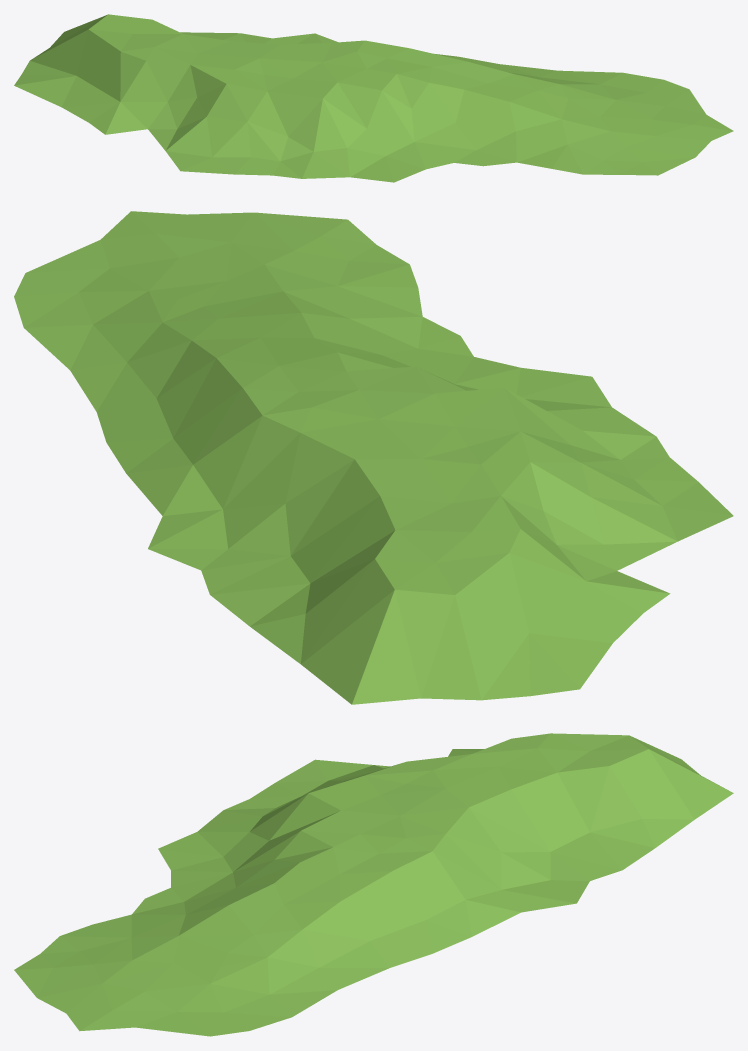
The model's file is MT_Mountain_M_c_03_LOD.fbx.
3 views of the same model, one above another, from view 1: azimuth 30°, elevation 25°; view 2: azimuth 150°, elevation 25°; view 3: azimuth 270°, elevation 25° (orthographic). The views are drawn at different scales.
Parts seen in each view (by area): view 1: MT_Mountain_M_c_03_LOD0; view 2: MT_Mountain_M_c_03_LOD0; view 3: MT_Mountain_M_c_03_LOD0.
Part boxes in pixels (<box>): MT_Mountain_M_c_03_LOD0: <box>14,14,733,182</box>; MT_Mountain_M_c_03_LOD0: <box>14,211,733,704</box>; MT_Mountain_M_c_03_LOD0: <box>14,733,733,1036</box>.
Size of what is drawn, in the model's own units: 4219 by 336 by 4297.
